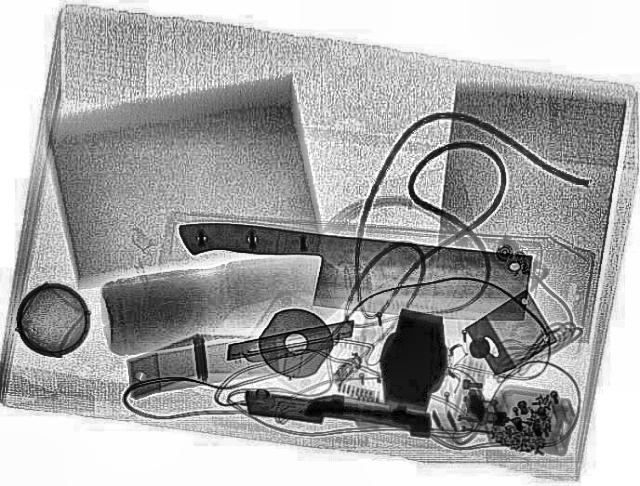Knife: (162, 215, 538, 329)
